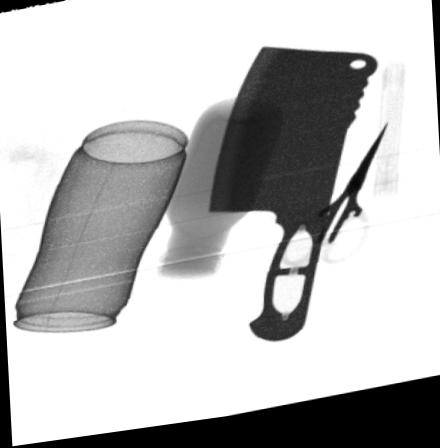Knife: (207, 53, 379, 349)
Scissors: (274, 131, 388, 272)
